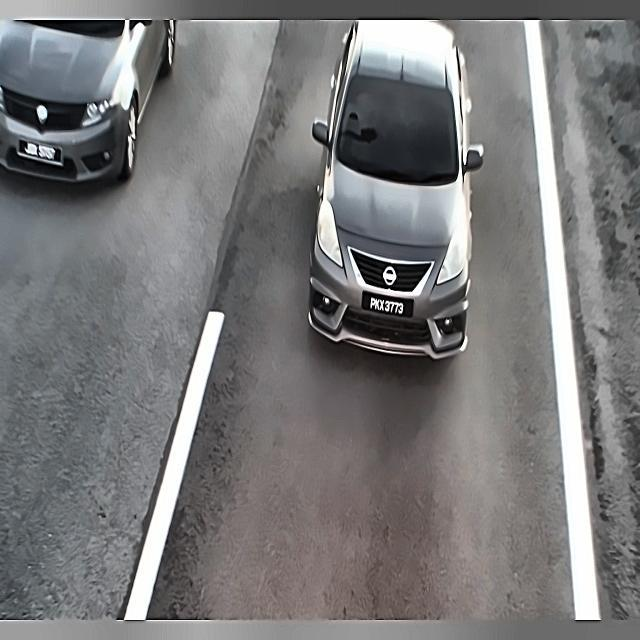car: (361, 289, 418, 321), (19, 138, 63, 166)
